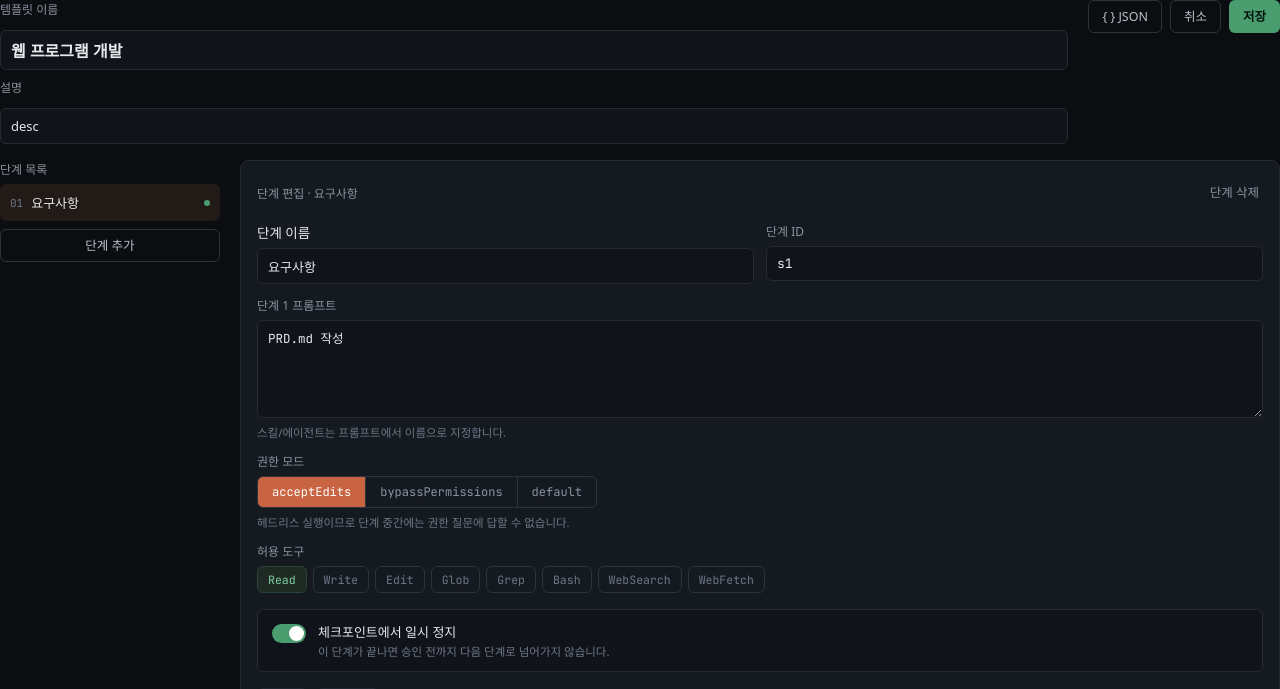
TemplateEditor › shows an error when saveTemplate rejects
Click the button "저장": {"x": 1254, "y": 16} [1229, 0, 1279, 33]
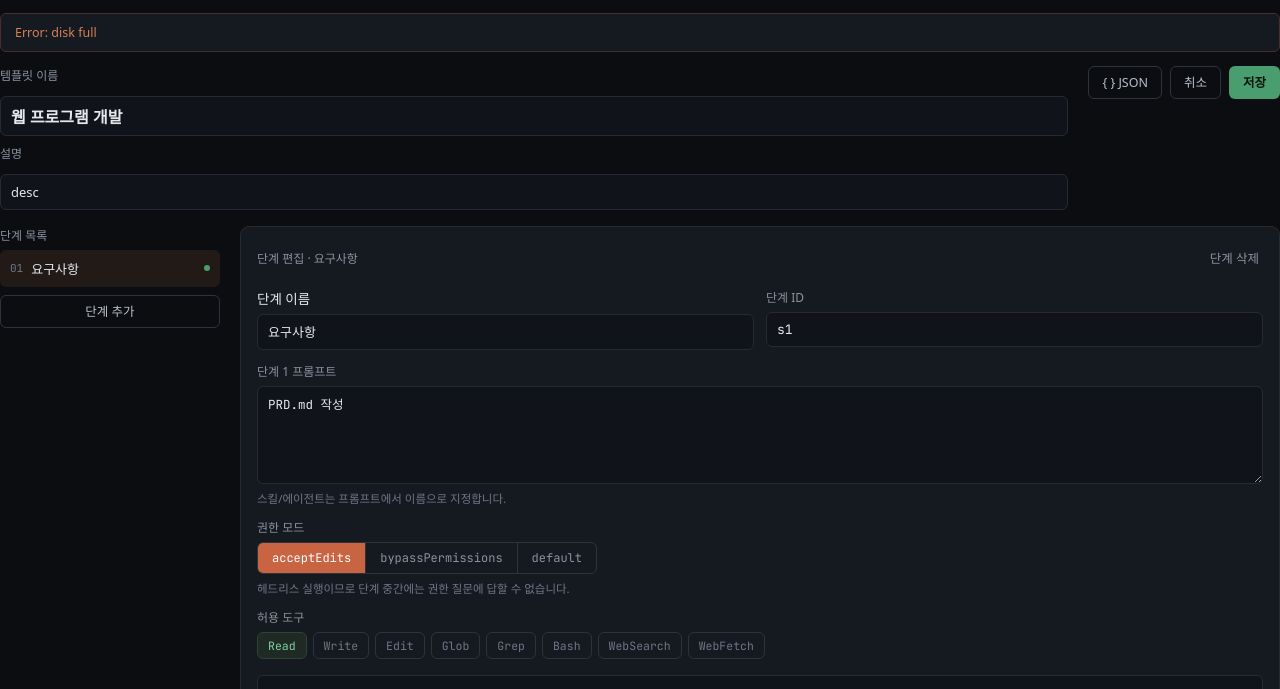
Check: the message shows "disk full", box [15, 24, 97, 40]
